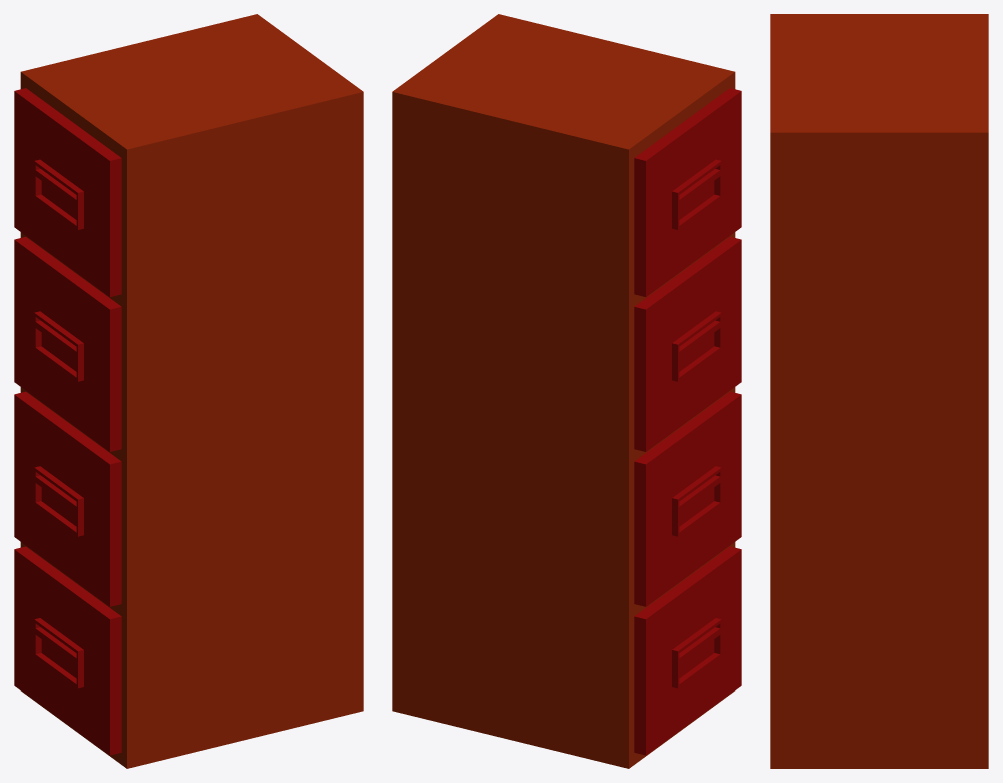
File: FilingCabinet.fbx
The picture shows the model from 3 angles, left to right: view 1: azimuth 30°, elevation 25°; view 2: azimuth 150°, elevation 25°; view 3: azimuth 270°, elevation 25°; orthographic projection. The views are drawn at different scales.
Visible parts, largest first — view 1: Box007, Drawer002, Drawer003, Drawer004, Drawer001; view 2: Box007, Drawer002, Drawer003, Drawer004, Drawer001; view 3: Box007.
Boxes of the visible parts, <box> form: Box007: <box>20,14,363,768</box>; Drawer002: <box>14,236,121,451</box>; Drawer003: <box>14,391,121,606</box>; Drawer004: <box>14,546,121,755</box>; Drawer001: <box>14,88,121,296</box>; Box007: <box>392,14,735,768</box>; Drawer002: <box>634,236,741,451</box>; Drawer003: <box>634,391,741,606</box>; Drawer004: <box>634,546,741,755</box>; Drawer001: <box>634,88,741,296</box>; Box007: <box>770,14,988,768</box>.
Bounding box in the file's own units: 43 × 100 × 31.12.
